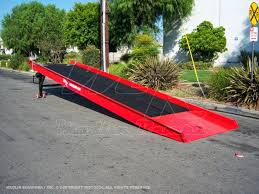Yard Ramp: (27, 59, 241, 147)
